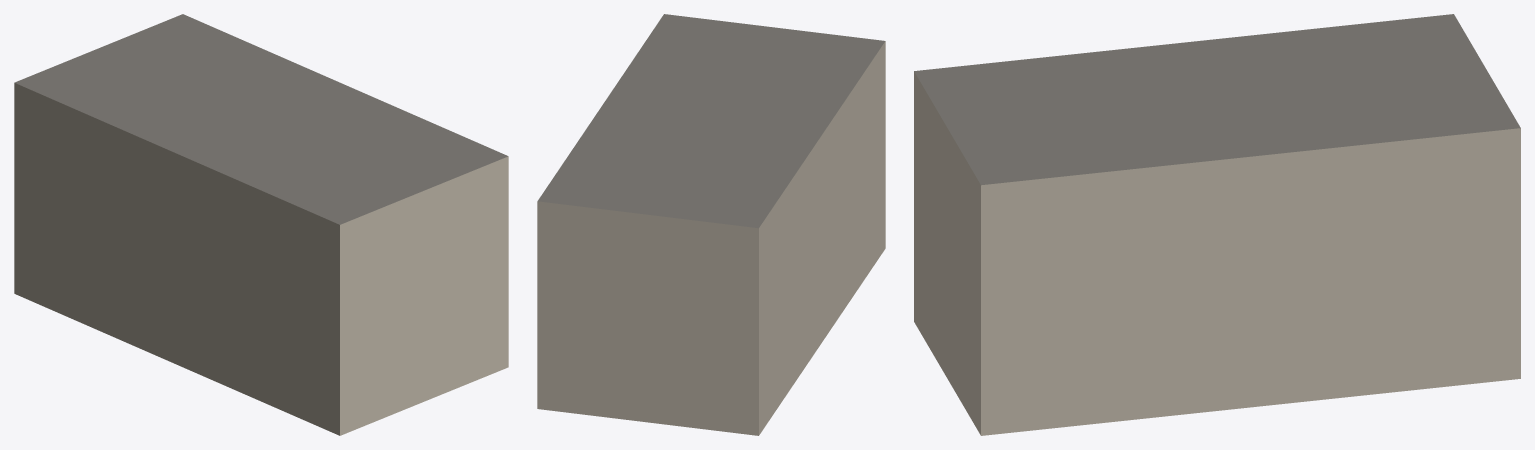
3 renders of one model, left to right at view 1: azimuth 30°, elevation 25°; view 2: azimuth 150°, elevation 25°; view 3: azimuth 270°, elevation 25°, orthographic. The views are drawn at different scales.
Parts seen in each view (by area): view 1: HP-w372180475; view 2: HP-w372180475; view 3: HP-w372180475.
Boxes of the visible parts, box(x1,y1,x2,y2) form: HP-w372180475: box(14, 14, 508, 435); HP-w372180475: box(537, 14, 885, 435); HP-w372180475: box(914, 14, 1520, 435).
Size of the model in its own units: 26.37 by 18 by 39.48.
